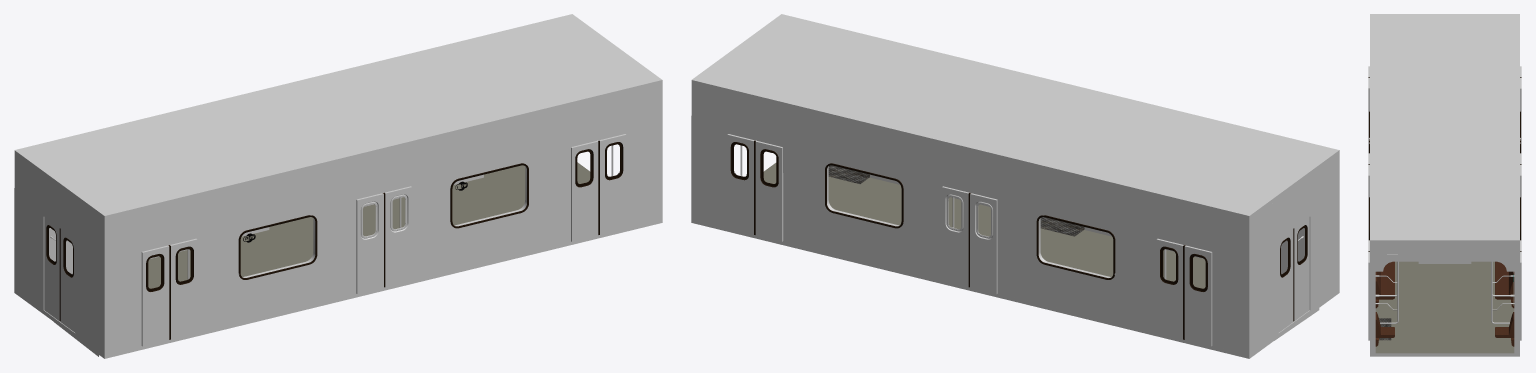
File: msite.compressed.glb
3 views of the same model, side by side, from view 1: azimuth 30°, elevation 25°; view 2: azimuth 150°, elevation 25°; view 3: azimuth 270°, elevation 25° (orthographic). The views are drawn at different scales.
Visible parts, largest first — view 1: Plane.022, cabin; view 2: Plane.022, cabin, Plane.014; view 3: Plane.022, cabin, Plane.014.
Part boxes in pixels (x1,y1,x2,y2): Plane.022: (14, 14, 662, 358); cabin: (46, 140, 623, 339); Plane.022: (691, 14, 1339, 358); cabin: (730, 140, 1307, 339); Plane.014: (828, 165, 1084, 236); Plane.022: (1368, 14, 1521, 356); cabin: (1368, 77, 1521, 353); Plane.014: (1379, 318, 1391, 340).
Bounding box in the file's own units: 14.3 × 3.73 × 4.1.
Materials: 25 (14 with a texture image).
